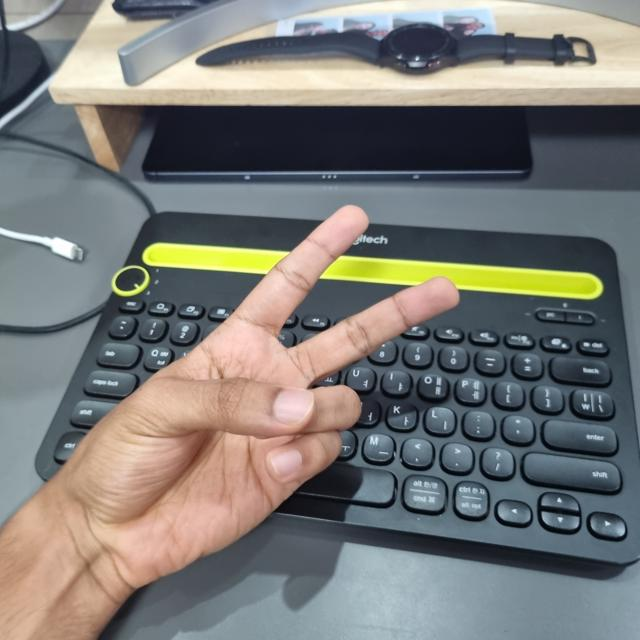Scissors: (61, 207, 459, 575)
